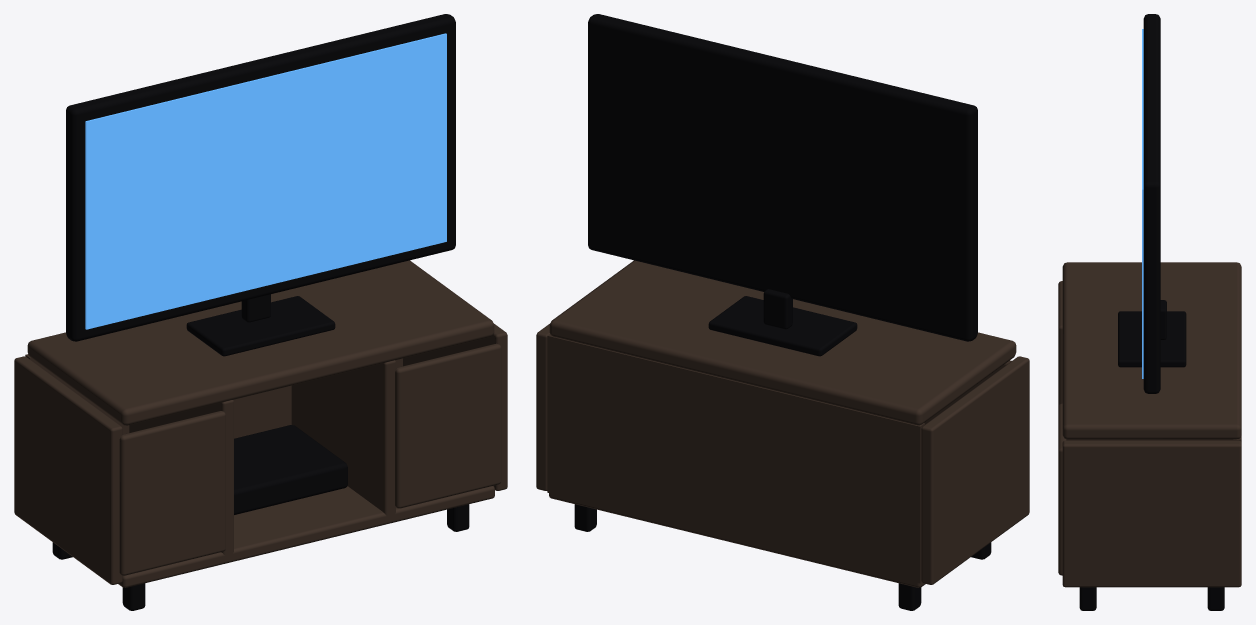
The model's file is tv_basic.glb.
3 views of the same model, side by side, from view 1: azimuth 30°, elevation 25°; view 2: azimuth 150°, elevation 25°; view 3: azimuth 270°, elevation 25° (orthographic). The views are drawn at different scales.
Parts seen in each view (by area): view 1: Cube.017, Cube.004, Cube.016, Cube.006, Cube.012, Cube.011, Cube.009, Cube.005, Cube.013, Cube.014, Cube.010, Cube.008 (+2 smaller); view 2: Cube.016, Cube.010, Cube.004, Cube.006, Cube.014, Cube.005, Cube.007, Cube.015; view 3: Cube.004, Cube.007, Cube.016, Cube.014, Cube.012, Cube.017, Cube.011, Cube.002, Cube.003, Cube.009, Cube.015.
Boxes of the visible parts, x1,y1,x2,y2 form: Cube.017: (85, 33, 446, 329); Cube.004: (27, 260, 494, 425); Cube.016: (66, 14, 455, 341); Cube.006: (14, 356, 122, 584); Cube.012: (395, 343, 501, 508); Cube.011: (119, 411, 225, 575); Cube.009: (291, 360, 395, 516); Cube.005: (118, 486, 494, 587); Cube.013: (234, 425, 347, 514); Cube.014: (186, 296, 335, 356); Cube.010: (25, 354, 402, 438); Cube.008: (129, 400, 233, 555); Cube.016: (588, 14, 977, 341); Cube.010: (547, 334, 924, 583); Cube.004: (549, 260, 1016, 425); Cube.006: (921, 356, 1029, 584); Cube.014: (708, 296, 857, 356); Cube.005: (549, 493, 925, 587); Cube.007: (536, 323, 550, 490); Cube.015: (763, 289, 792, 329); Cube.004: (1062, 262, 1241, 439); Cube.007: (1062, 440, 1241, 587); Cube.016: (1143, 14, 1160, 393); Cube.014: (1118, 311, 1186, 367); Cube.012: (1058, 403, 1066, 575); Cube.017: (1142, 29, 1143, 378); Cube.011: (1058, 281, 1062, 405); Cube.002: (1207, 587, 1224, 610); Cube.003: (1079, 587, 1096, 610); Cube.009: (1066, 439, 1233, 440); Cube.015: (1160, 300, 1166, 339).
Size of the model in its own units: 0.98 by 1.14 by 0.43.
